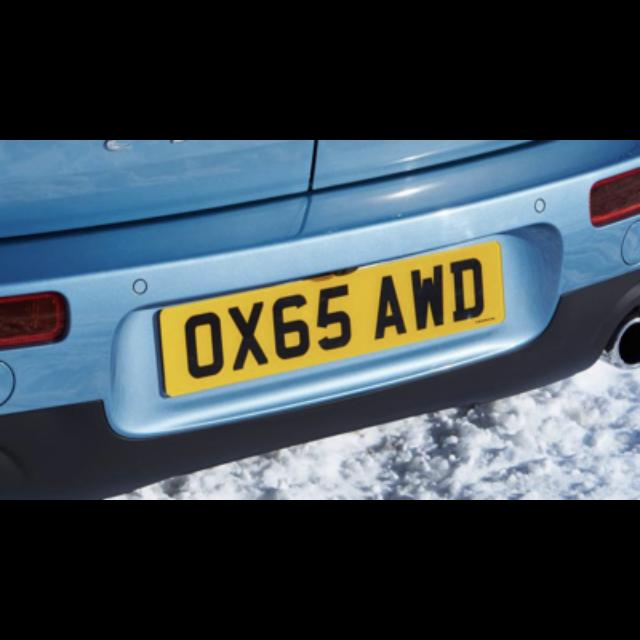carPlate: (160, 238, 506, 399)
